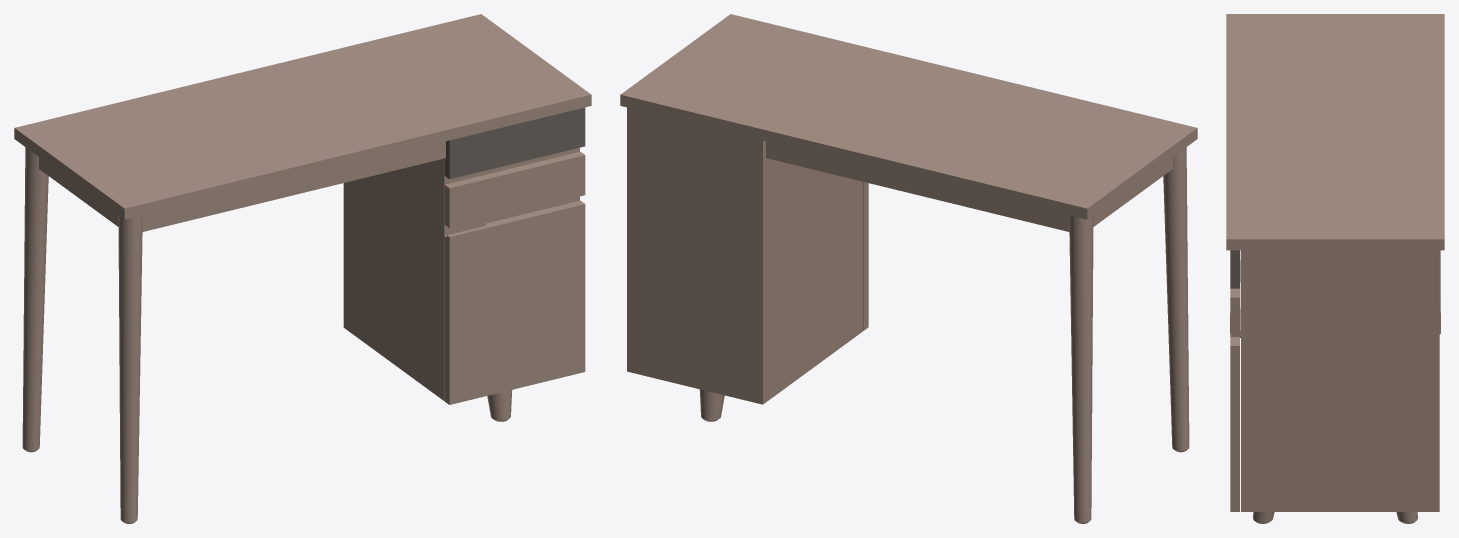
Rendered from 504_デスク.glb.
3 views of the same model, side by side, from view 1: azimuth 30°, elevation 25°; view 2: azimuth 150°, elevation 25°; view 3: azimuth 270°, elevation 25° (orthographic).
Parts seen in each view (by area): view 1: Body, tobira, hikidashi2, hikidashi1; view 2: Body, tobira; view 3: Body, tobira, hikidashi2, hikidashi1.
Boxes of the visible parts, x1,y1,x2,y2 form: Body: (14,14,591,523); tobira: (444,200,585,404); hikidashi2: (444,151,585,228); hikidashi1: (444,107,585,179); Body: (620,14,1197,523); tobira: (863,182,868,330); Body: (1226,14,1444,523); tobira: (1230,337,1239,511); hikidashi2: (1230,282,1240,336); hikidashi1: (1230,250,1240,288).
Size of the model in its own units: 1.1 by 0.72 by 0.45.
